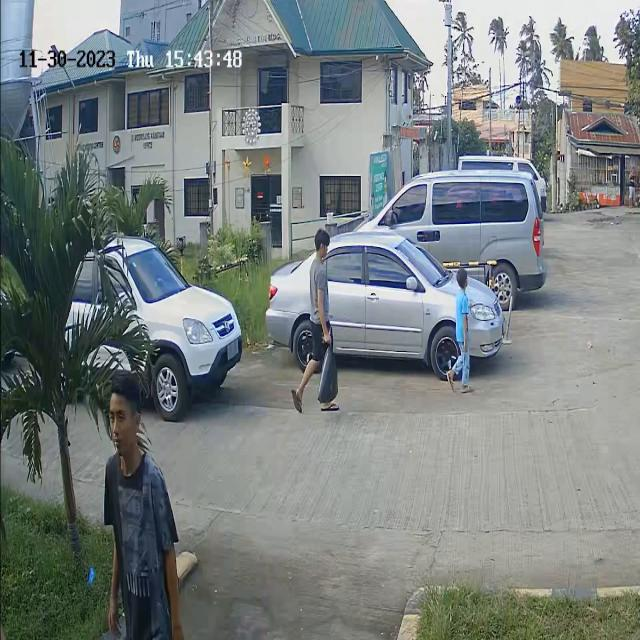garbage: (315, 331, 348, 407)
person: (102, 380, 145, 526), (304, 230, 333, 339), (450, 270, 479, 377)
